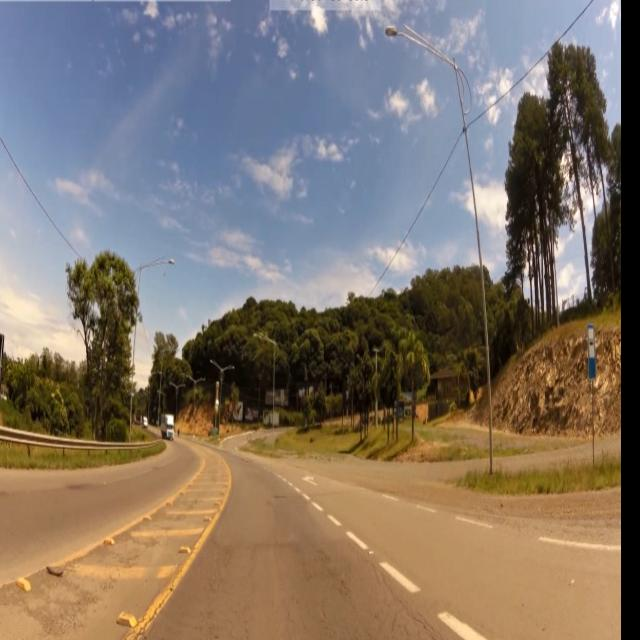S-14: (587, 323, 598, 385)
